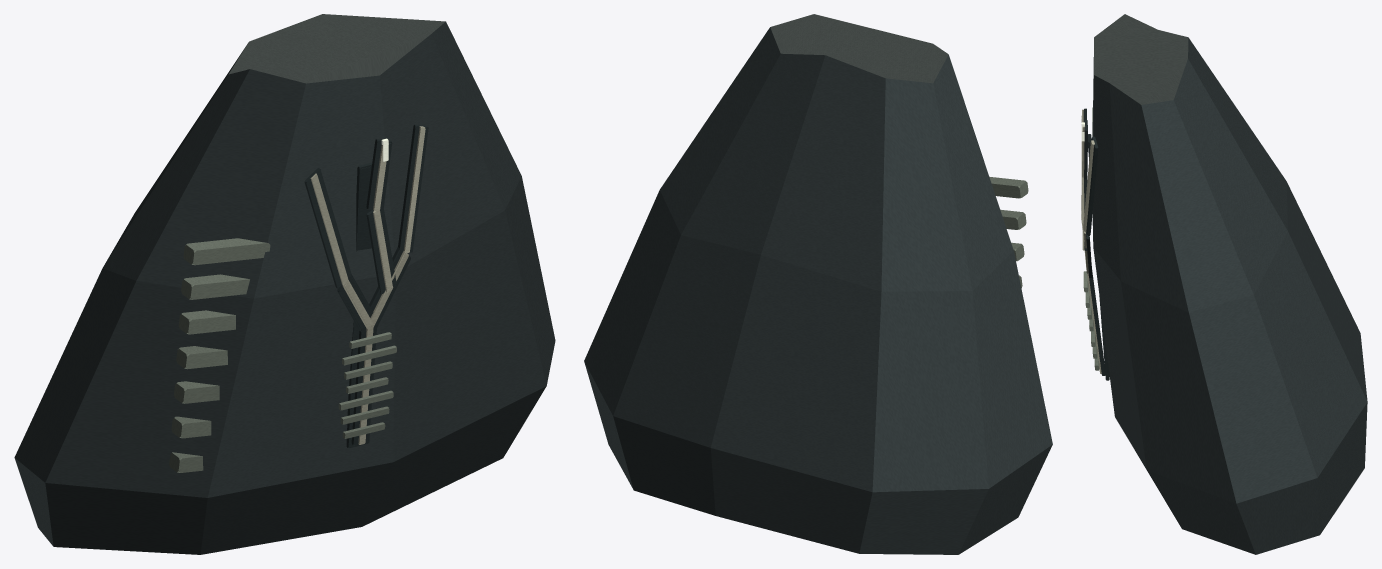
File: cataclysm_impact_fragment.glb
The picture shows the model from 3 angles, left to right: view 1: azimuth 30°, elevation 25°; view 2: azimuth 150°, elevation 25°; view 3: azimuth 270°, elevation 25°; orthographic projection. The views are drawn at different scales.
Parts seen in each view (by area): view 1: cataclysm_impact_fragment; view 2: cataclysm_impact_fragment; view 3: cataclysm_impact_fragment.
Part boxes in pixels (x1=…): cataclysm_impact_fragment: x1=14, y1=14, x2=555, y2=554; cataclysm_impact_fragment: x1=584, y1=14, x2=1052, y2=554; cataclysm_impact_fragment: x1=1081, y1=14, x2=1367, y2=554.
Size of the model in its own units: 2.94 by 2.63 by 1.64.
3 materials, 3 textured.
